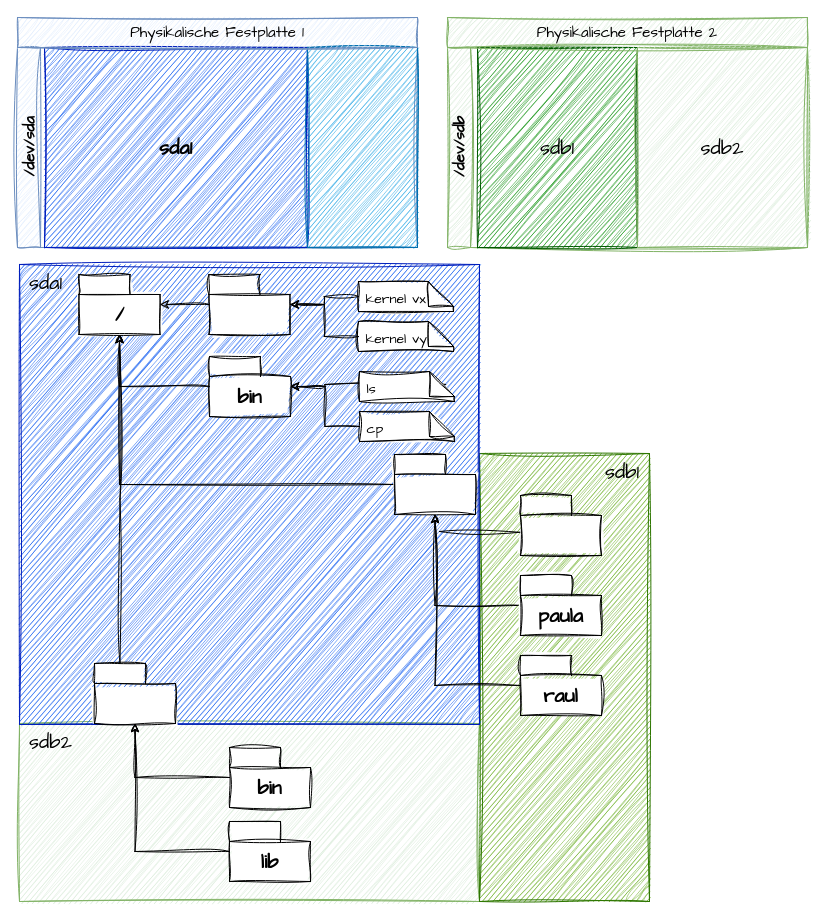
The diagram is 825 pixels wide and 919 high, and some of its shapes have lost their labels. The shapes that lost their labels are listed below. From the top down, each one's centre as x and y in pixels, then its label:
At pixel 362 147: "sda2".
At pixel 249 304: "boot".
At pixel 435 484: "home".
At pixel 561 525: "anna".
At pixel 135 693: "usr".
